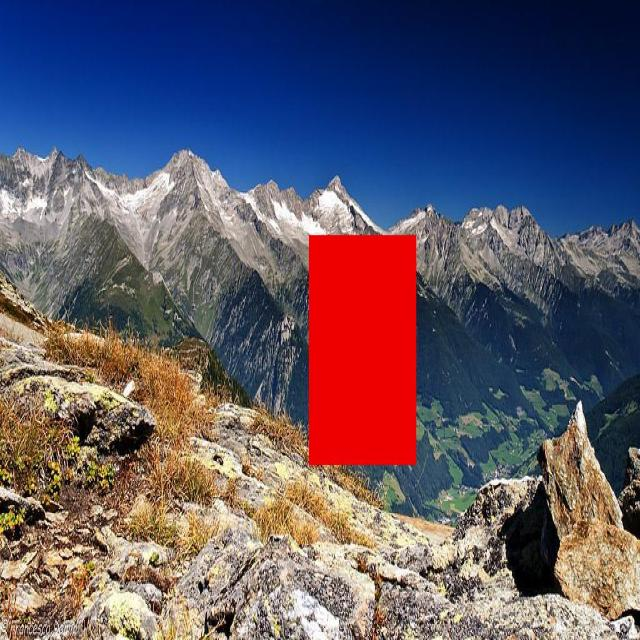RedSquare: (306, 228, 420, 471)
